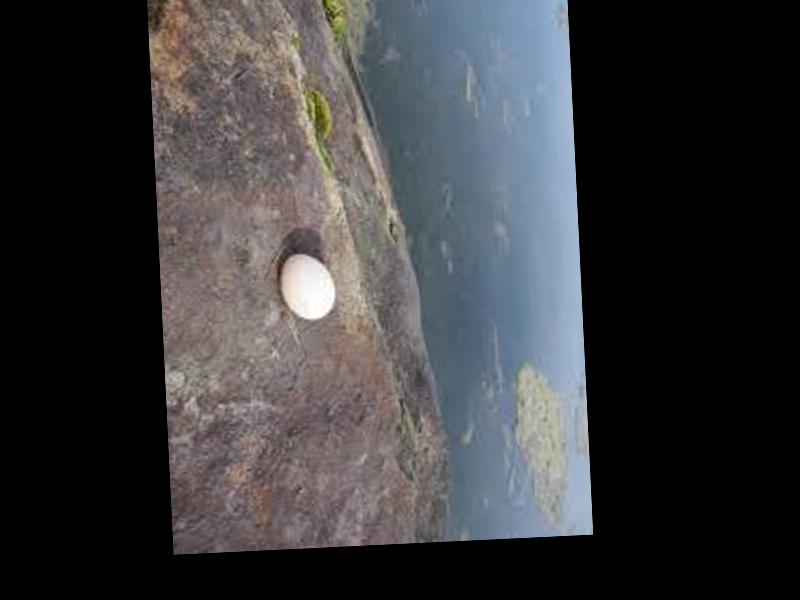Eggs: (280, 252, 337, 324)
